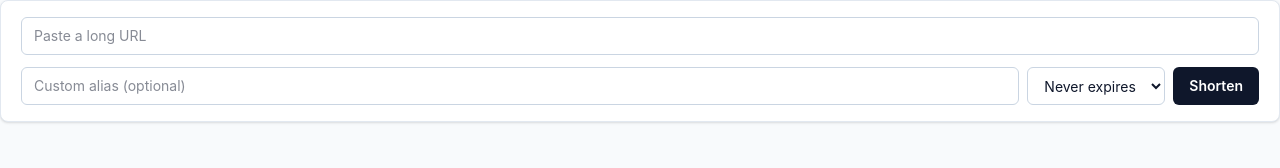
Test: ShortenForm › shows the validation error when the API rejects the URL
Type "not-a-url" into the field labelled "long URL". click: {"x": 640, "y": 36}
box: [21,17,1259,55]
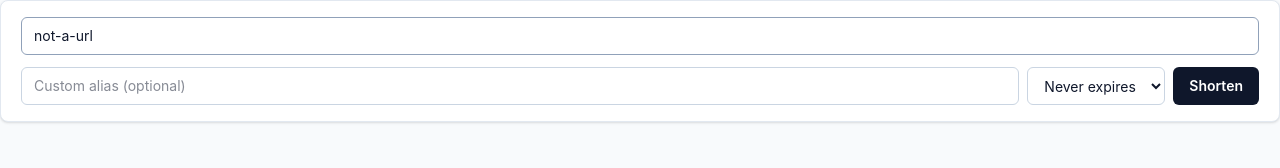
Click the button "Shorten". click: {"x": 1216, "y": 86}
box: [1173,67,1259,105]
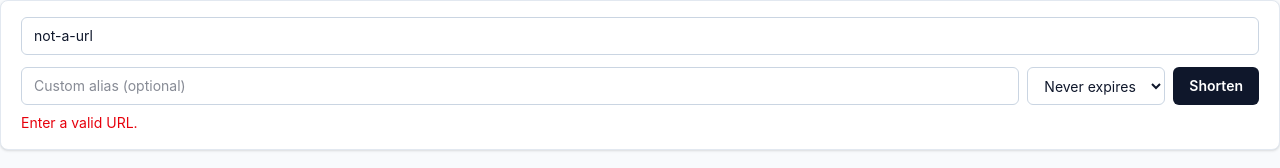
Now the text "Enter a valid URL." is shown, box [21,114,138,131]
